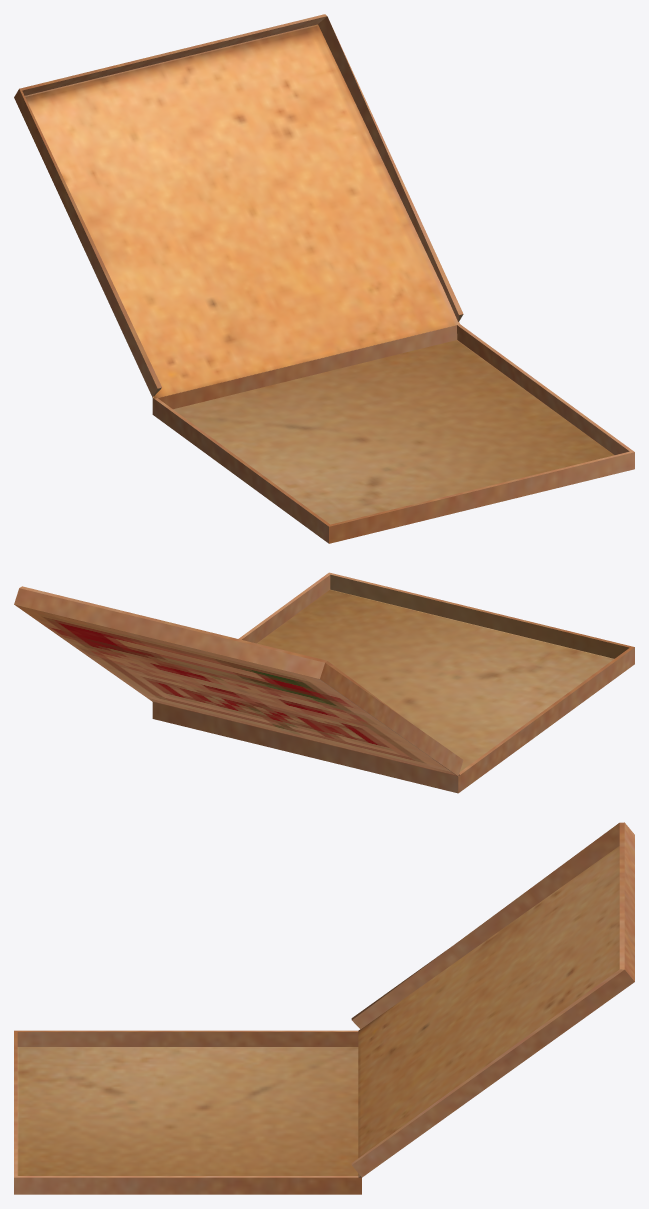
Rendered from pizza_box_clean.obj.
3 renders of one model, top to bottom at view 1: azimuth 30°, elevation 25°; view 2: azimuth 150°, elevation 25°; view 3: azimuth 270°, elevation 25°, orthographic.
Visible parts, largest first — view 1: pizza_box_clean; view 2: pizza_box_clean; view 3: pizza_box_clean.
Boxes of the visible parts, bbox=[...] form: pizza_box_clean: bbox=[14, 14, 634, 543]; pizza_box_clean: bbox=[14, 572, 634, 793]; pizza_box_clean: bbox=[14, 822, 634, 1194].
Size of the model in its own units: 0.5276 by 0.3762 by 0.9413.
